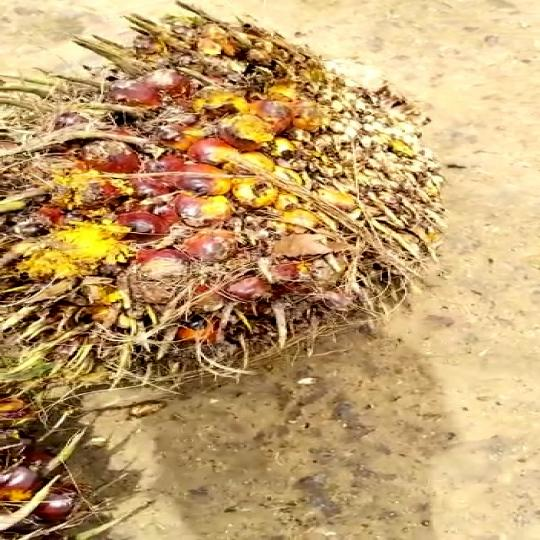masak: (0, 7, 467, 394)
